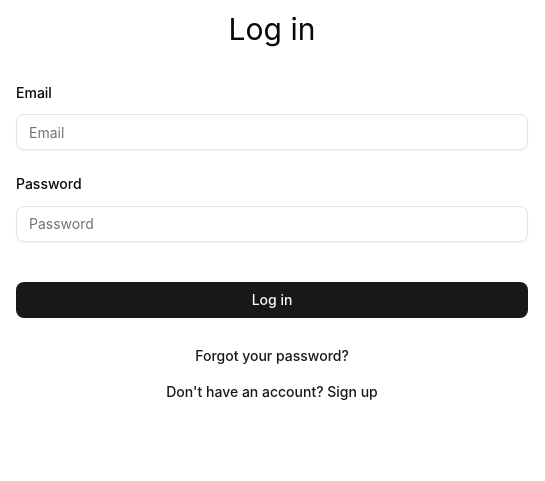
Test case: Login › form validation and other error scenarios › clears email validation error when user corrects email input
Step 1. Submit the form from the button "Log in", box left=16, top=282, right=528, bottom=318
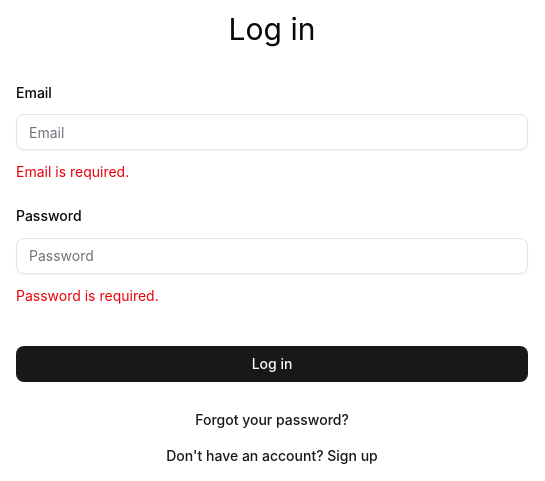
expect the text "Email is required." is shown: met, box left=16, top=163, right=129, bottom=180
Step 2. Type "test@email.com" into the field labelled "Email" → (272, 132), box left=16, top=114, right=528, bottom=150
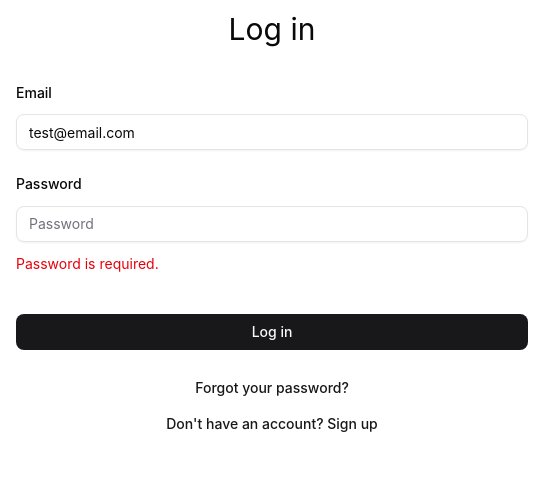
expect the text "Email is required." is gone: met
